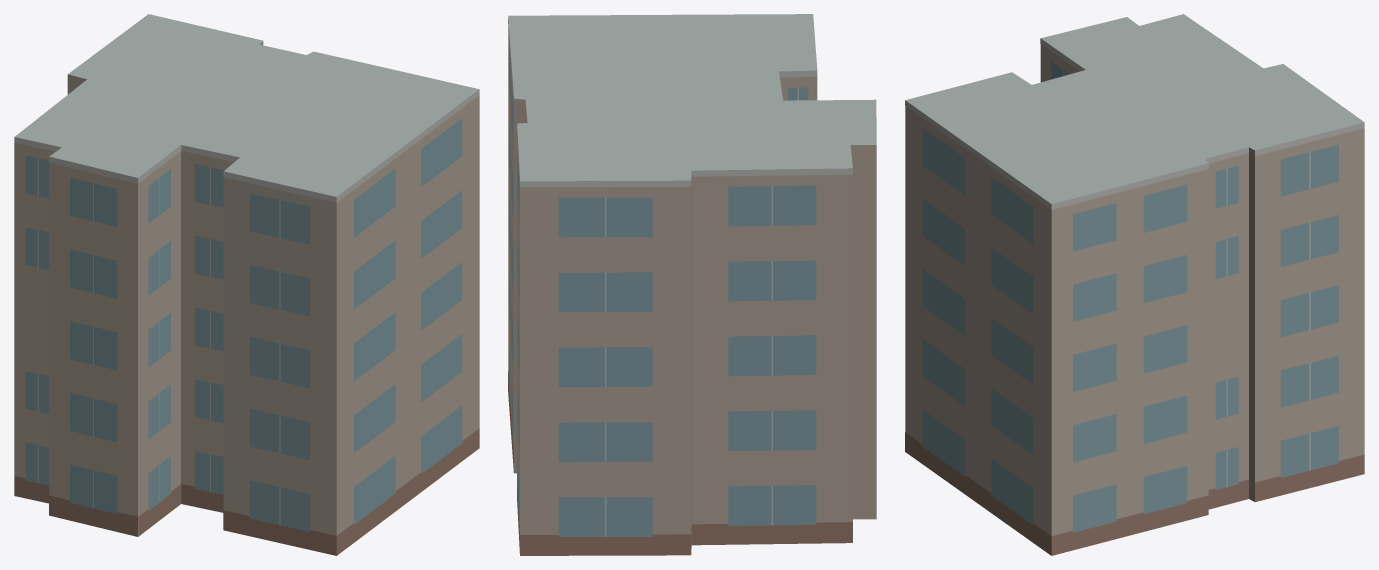
The model's file is survey-upis-32962356.glb.
3 views of the same model, side by side, from view 1: azimuth 30°, elevation 25°; view 2: azimuth 150°, elevation 25°; view 3: azimuth 270°, elevation 25° (orthographic). The views are drawn at different scales.
Visible parts, largest first — view 1: survey-upis-32962356.tmp; view 2: survey-upis-32962356.tmp; view 3: survey-upis-32962356.tmp.
Boxes of the visible parts, x1=… form: survey-upis-32962356.tmp: x1=14, y1=14, x2=479, y2=555; survey-upis-32962356.tmp: x1=508, y1=14, x2=876, y2=555; survey-upis-32962356.tmp: x1=905, y1=14, x2=1364, y2=555.
Bounding box in the file's own units: 17.23 × 14.85 × 17.59.
